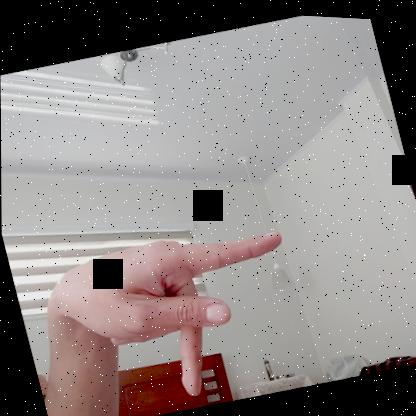P: (49, 203, 319, 415)
